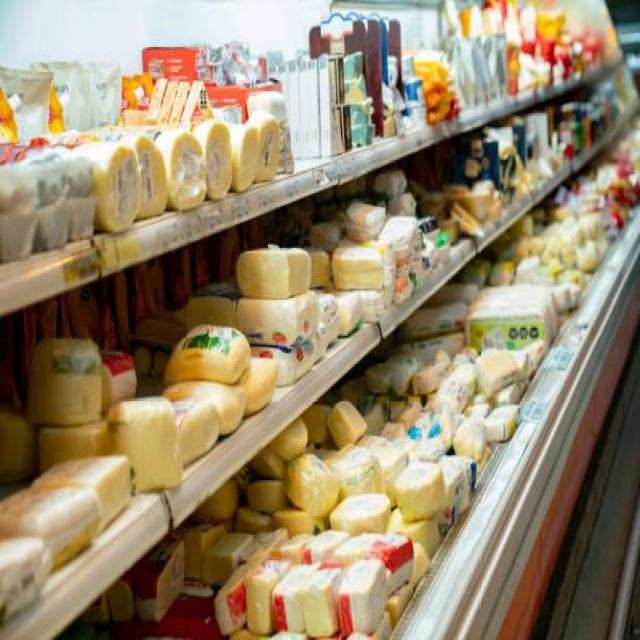article: (109, 400, 182, 491), (26, 339, 101, 425), (76, 143, 141, 231), (165, 325, 250, 383), (134, 540, 183, 620), (155, 129, 204, 209), (236, 248, 310, 298), (339, 560, 386, 634), (329, 493, 390, 535), (333, 246, 383, 289)
